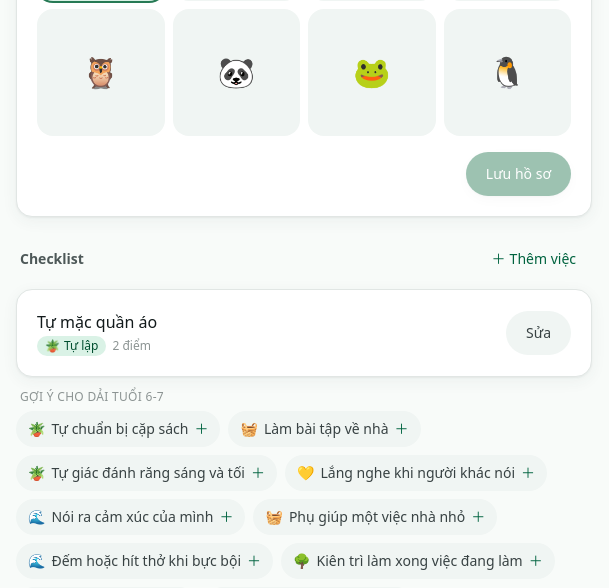
ParentManage › adds a new checklist item through the add form
(page scrolled)
Click the button "＋ Thêm việc" at (534, 259), box [480,241,588,277]
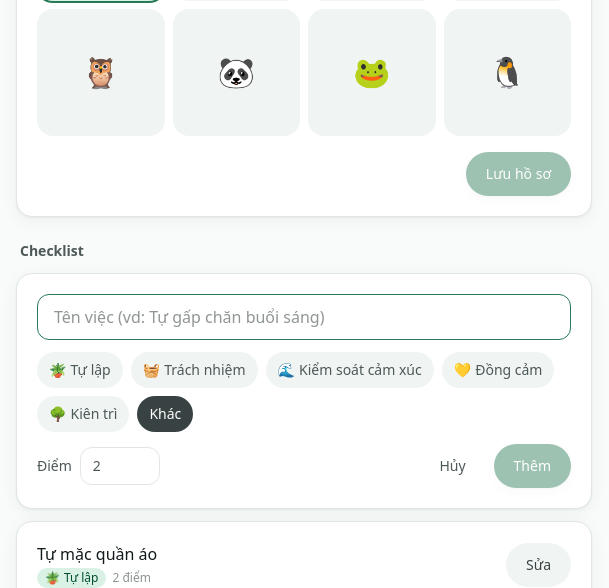
Type "Tự gấp chăn" into the field with placeholder "Tên việc (vd: Tự gấp chăn buổi sáng)" at (304, 317), box [37,294,571,340]
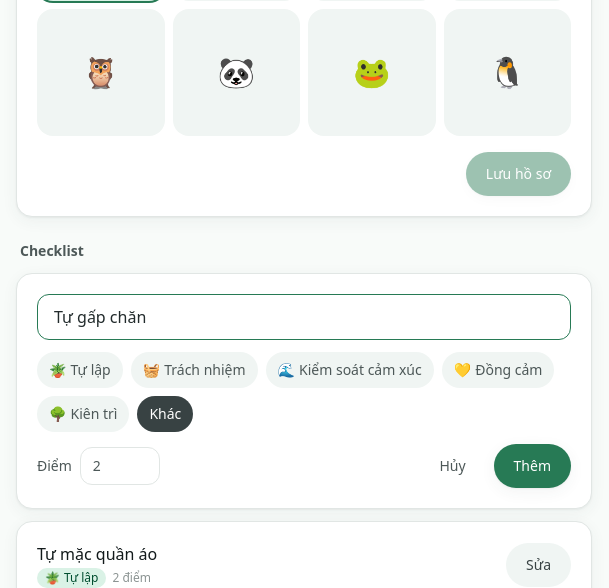
Click the button "Thêm" at (532, 466), box [494,444,571,488]
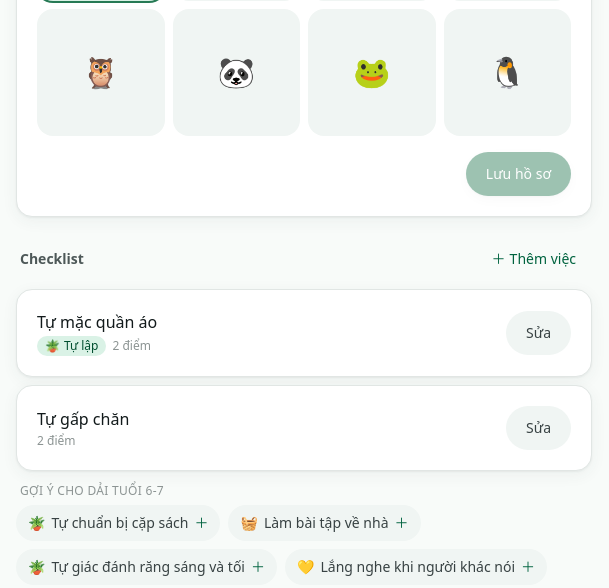
Result: the text "Tự gấp chăn" is shown at [37,407,129,431]
